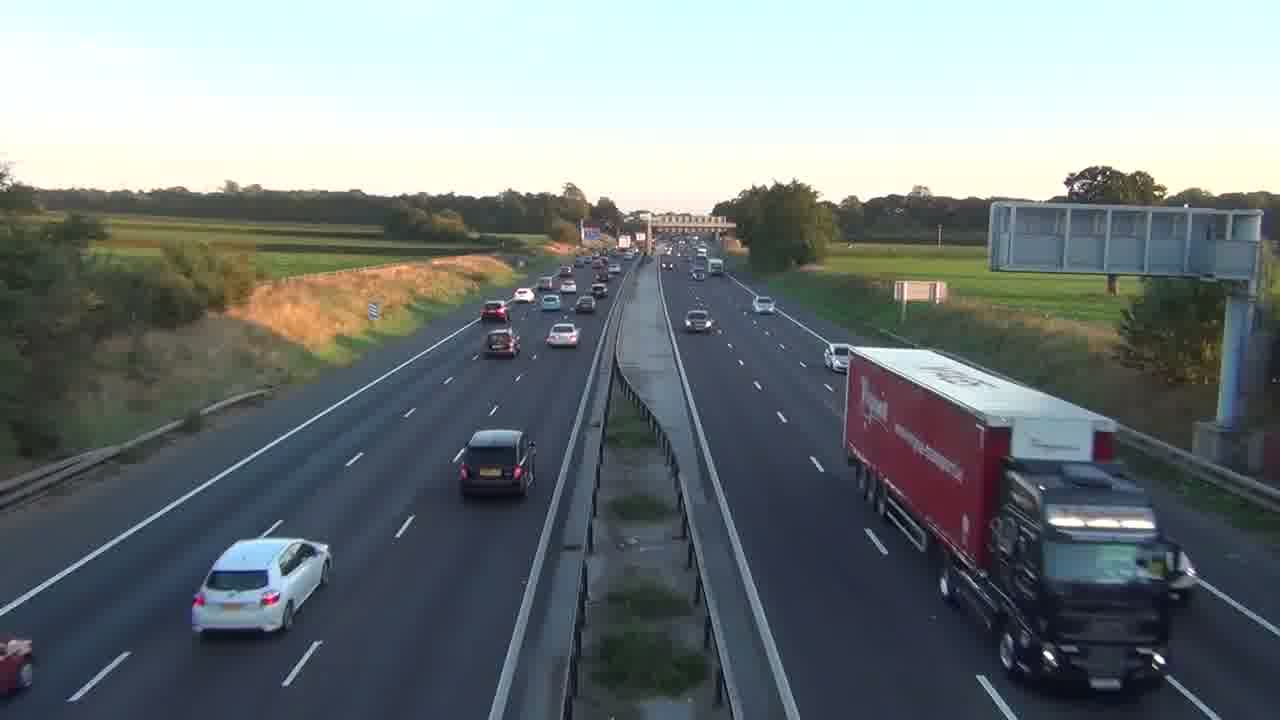car: (191, 536, 333, 638), (452, 428, 537, 499), (0, 637, 34, 699), (546, 321, 580, 348), (574, 295, 596, 313)
truck: (842, 343, 1200, 694)
